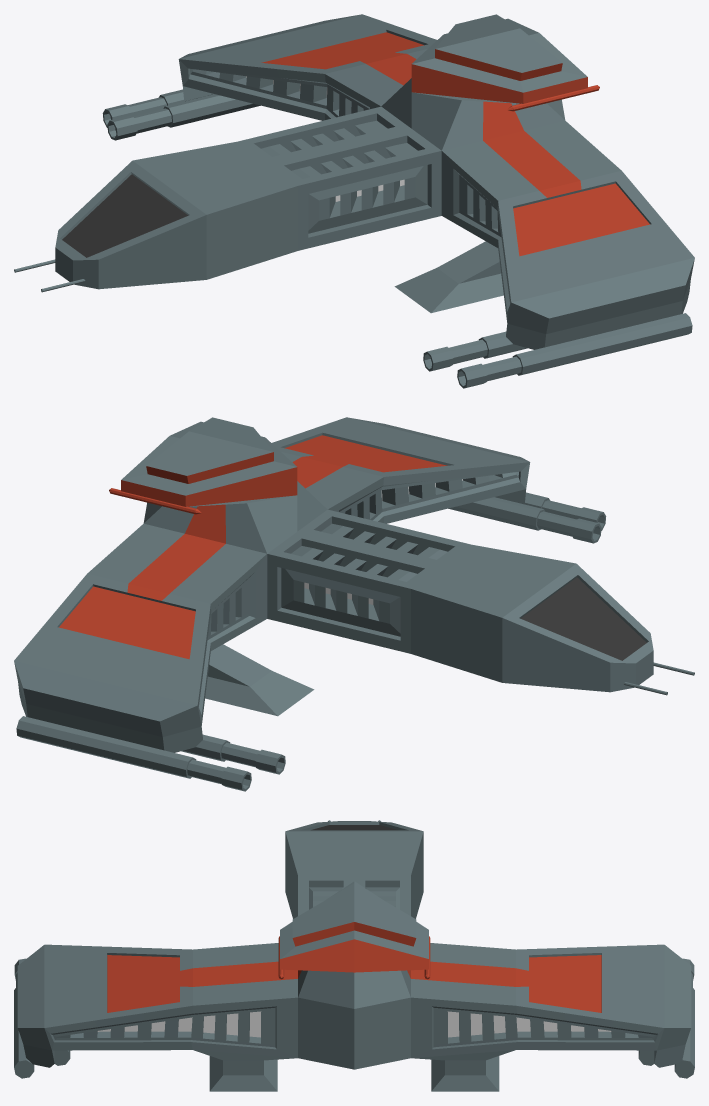
File: Player1CruiserModel.fbx
3 views of the same model, one above another, from view 1: azimuth 30°, elevation 25°; view 2: azimuth 150°, elevation 25°; view 3: azimuth 270°, elevation 25° (orthographic). The views are drawn at different scales.
Parts seen in each view (by area): view 1: SpaceShip; view 2: SpaceShip; view 3: SpaceShip.
Part boxes in pixels (box(x1,y1,x2,y2)): SpaceShip: box(14, 14, 694, 388); SpaceShip: box(14, 417, 694, 791); SpaceShip: box(14, 820, 694, 1091).
Size of the model in its own units: 12.44 by 4.18 by 14.78.
